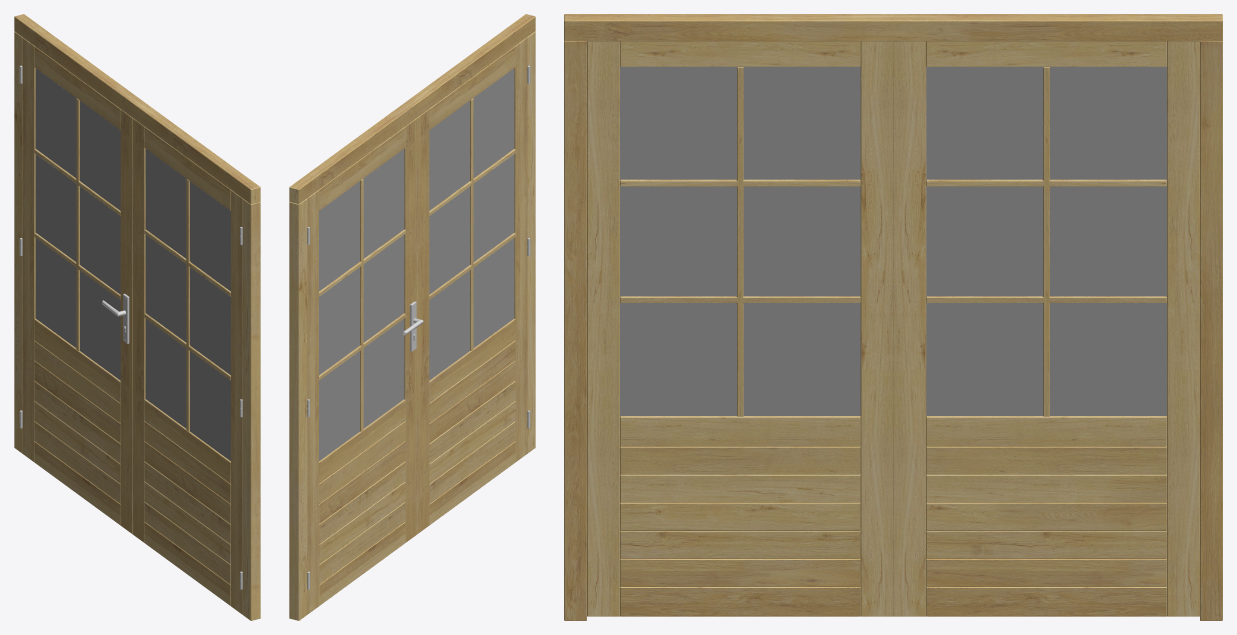
File: door_dubbele_stapeldorpeldeur.glb
The picture shows the model from 3 angles, left to right: view 1: azimuth 30°, elevation 25°; view 2: azimuth 150°, elevation 25°; view 3: azimuth 270°, elevation 25°; orthographic projection. The views are drawn at different scales.
Parts seen in each view (by area): view 1: door_dubbele_stapeldorpeldeur_wood, door_dubbele_stapeldorpeldeur_glass, door_dubbele_stapeldorpeldeur_hingles; view 2: door_dubbele_stapeldorpeldeur_wood, door_dubbele_stapeldorpeldeur_glass, door_dubbele_stapeldorpeldeur_hingles; view 3: door_dubbele_stapeldorpeldeur_wood, door_dubbele_stapeldorpeldeur_glass.
Part boxes in pixels (box(x1,y1,x2,y2)): door_dubbele_stapeldorpeldeur_wood: box(14, 14, 260, 620); door_dubbele_stapeldorpeldeur_glass: box(35, 68, 230, 460); door_dubbele_stapeldorpeldeur_hingles: box(19, 65, 242, 589); door_dubbele_stapeldorpeldeur_wood: box(289, 14, 535, 620); door_dubbele_stapeldorpeldeur_glass: box(319, 68, 514, 460); door_dubbele_stapeldorpeldeur_hingles: box(307, 65, 530, 589); door_dubbele_stapeldorpeldeur_wood: box(564, 14, 1222, 620); door_dubbele_stapeldorpeldeur_glass: box(620, 66, 1166, 415).
Size of the model in its own units: 0.1007 by 2.01 by 2.
Materials: 3 (1 with a texture image).
